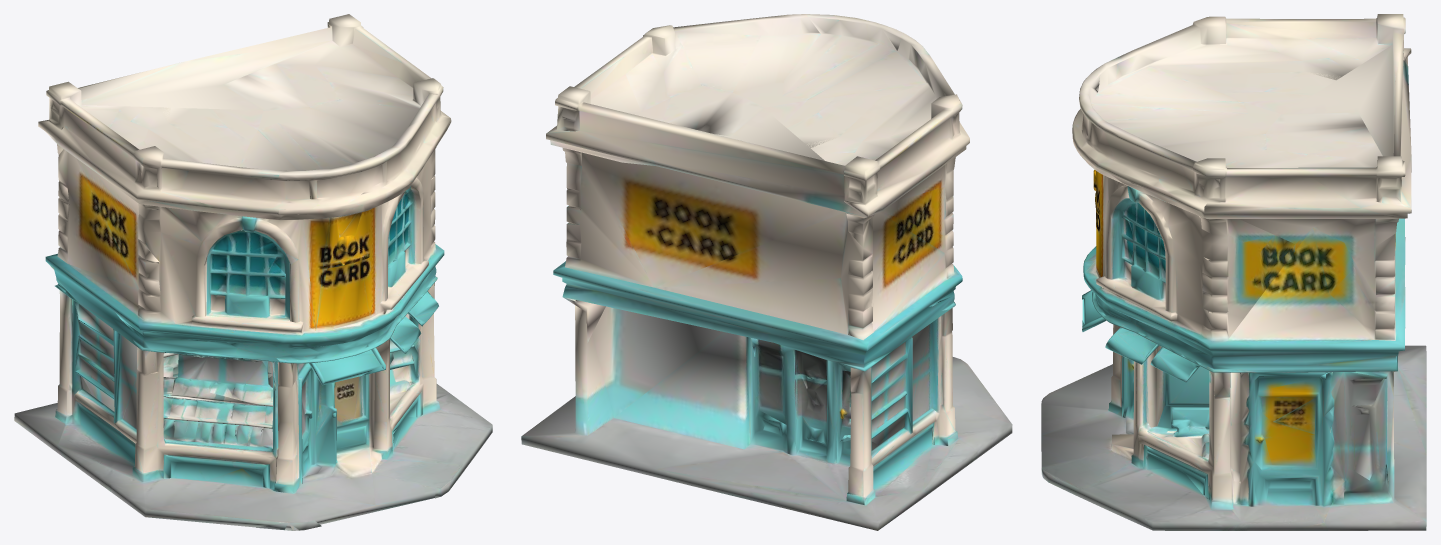
File: bookshop.glb
The picture shows the model from 3 angles, left to right: view 1: azimuth 30°, elevation 25°; view 2: azimuth 150°, elevation 25°; view 3: azimuth 270°, elevation 25°; orthographic projection. The views are drawn at different scales.
Visible parts, largest first — view 1: Mesh_0; view 2: Mesh_0; view 3: Mesh_0.
Part boxes in pixels (bbox=[...]): Mesh_0: bbox=[14, 14, 492, 530]; Mesh_0: bbox=[521, 14, 1012, 530]; Mesh_0: bbox=[1041, 14, 1426, 530].
Bounding box in the file's own units: 5.38 × 5 × 4.95.
1 material, 1 textured.
